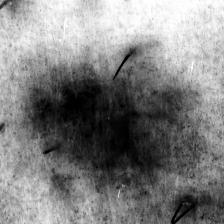Benign Marking or Mole: (31, 61, 146, 174)
